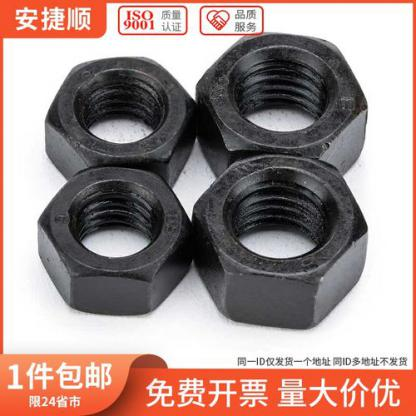FOD: (188, 153, 370, 331), (195, 29, 371, 191), (35, 164, 195, 318), (42, 54, 198, 187)
